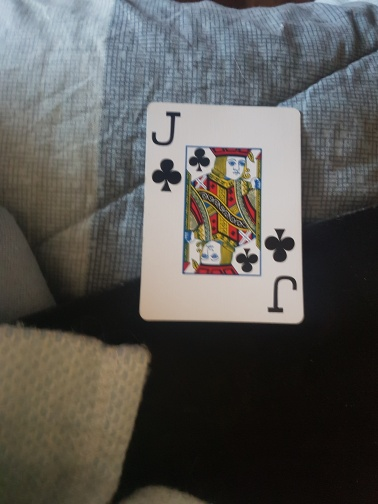jack: (140, 103, 308, 323)
